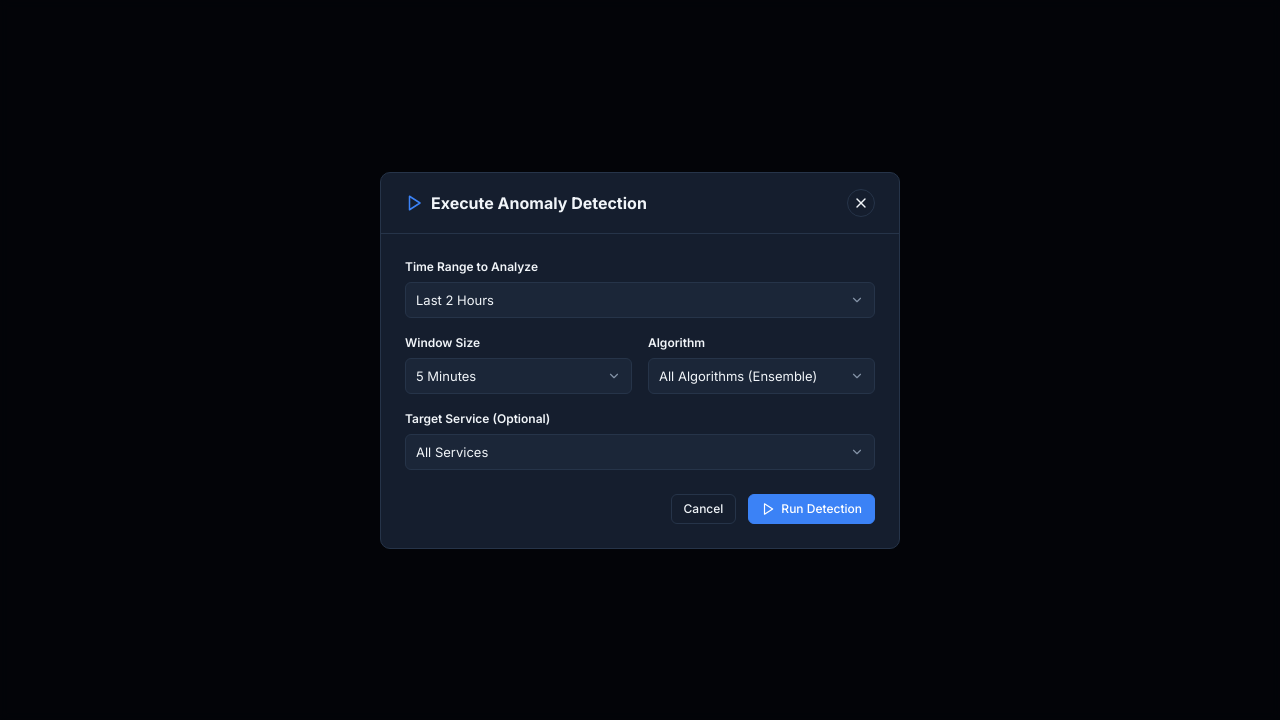
Test: Phase 7: Anomaly Detection UI Components › DetectionRunModal › handles form inputs and triggers onRunDetection
Expected: the heading "Execute Anomaly Detection" is shown, [431,190,647,214]
Click the button "Run Detection".
click(812, 508)  # box [748,494,875,524]
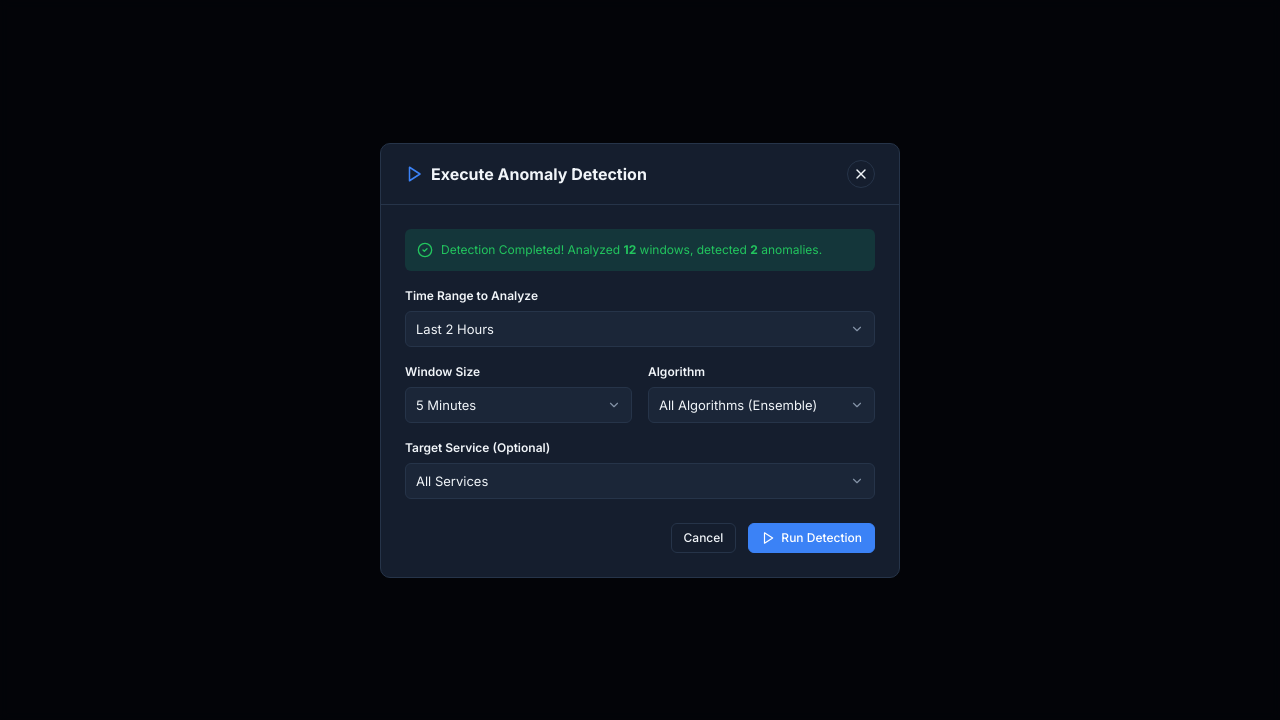
Now the text "Detection Completed!" is shown, box [441,242,624,256]
